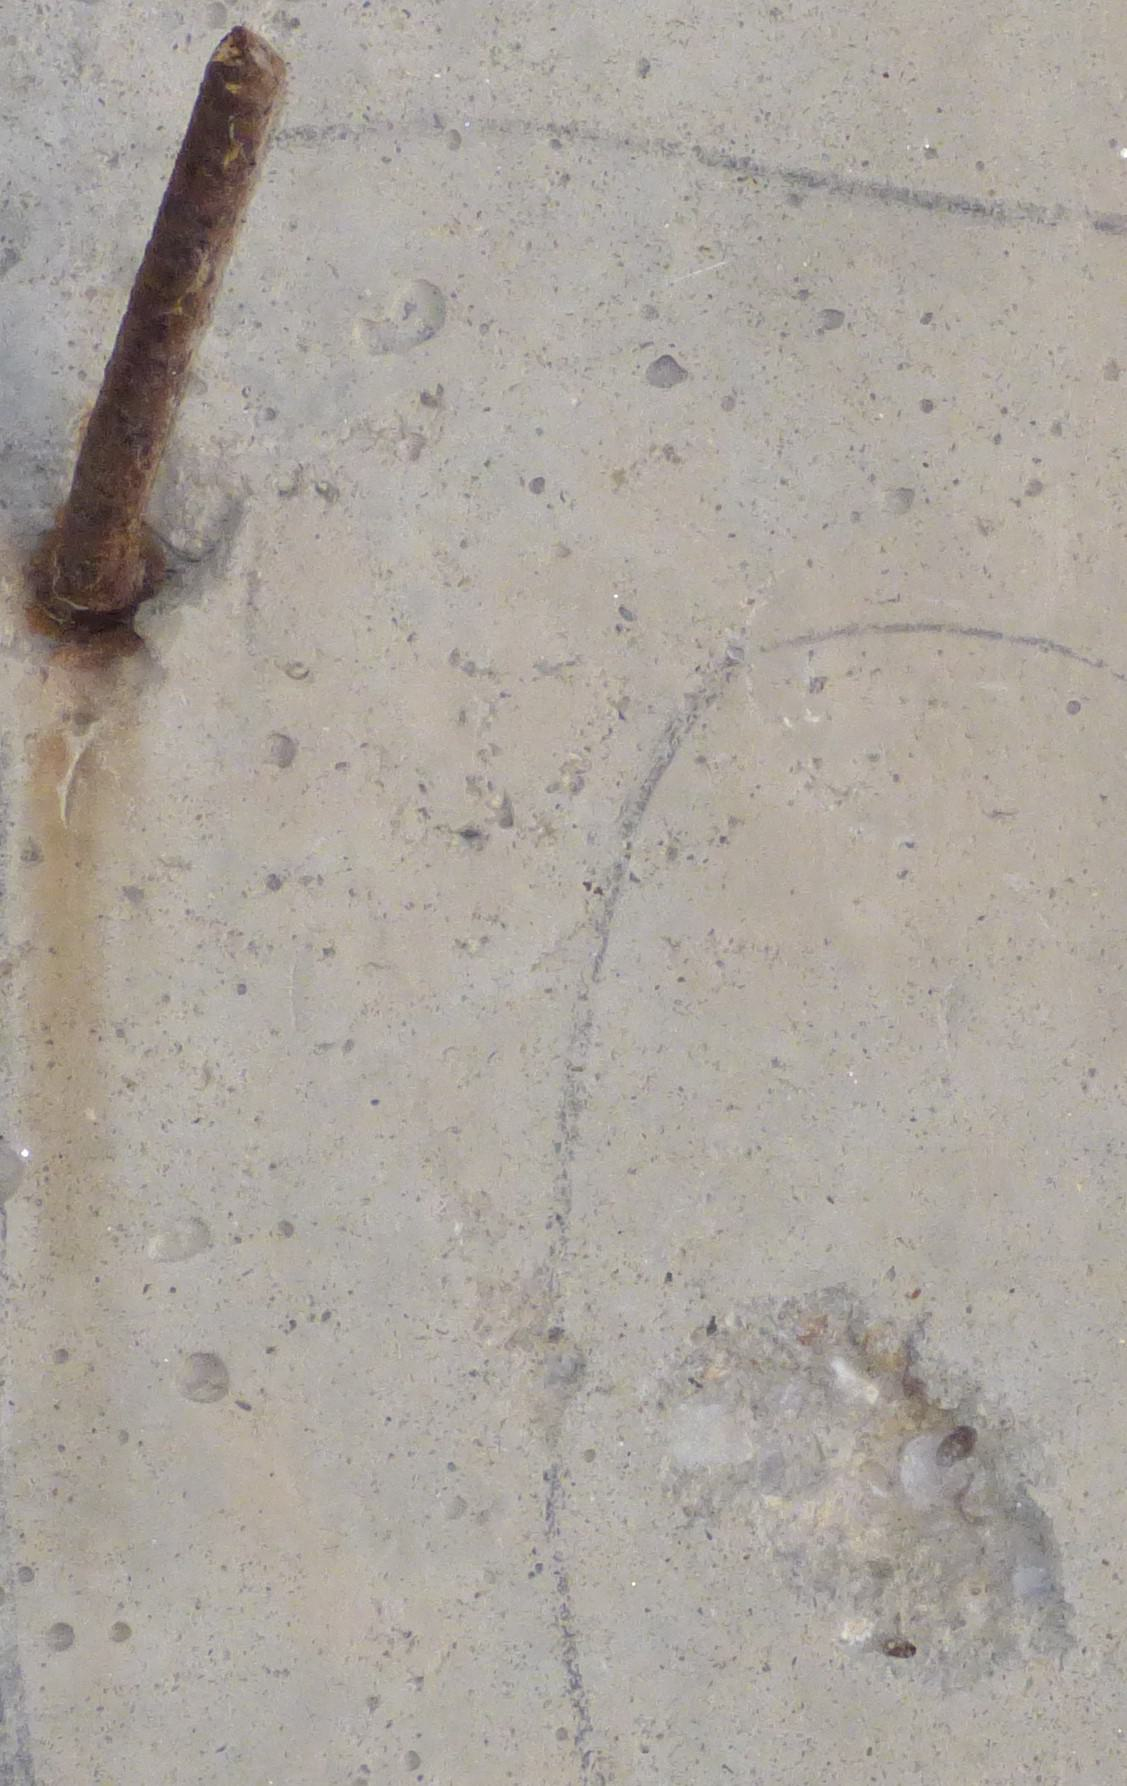Exposed reinforcement: (57, 25, 290, 613)
